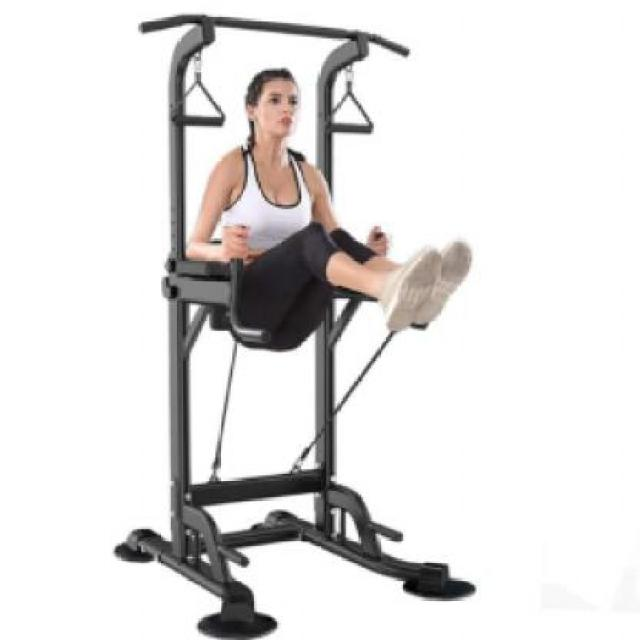chinning dipping: (138, 11, 474, 638)
